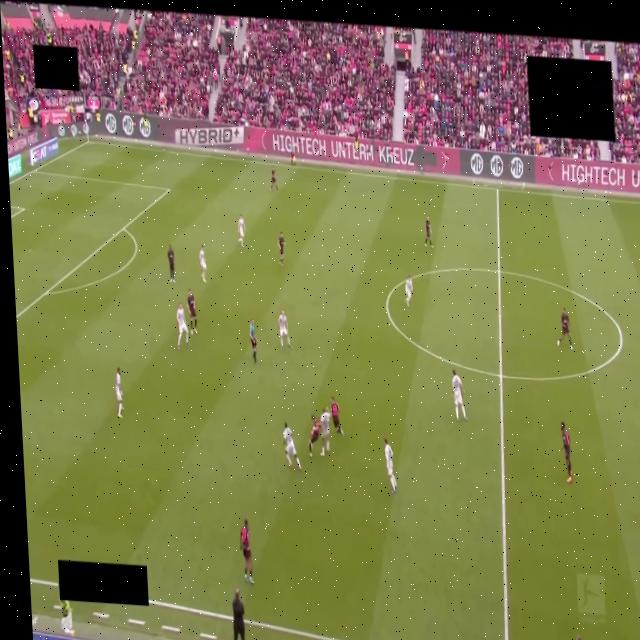player: (240, 519, 253, 584), (284, 423, 300, 470), (452, 370, 466, 421), (561, 422, 572, 483), (384, 439, 396, 494), (558, 309, 572, 349), (177, 304, 189, 348), (114, 367, 124, 418), (309, 415, 320, 458), (279, 311, 291, 349), (331, 397, 343, 435), (187, 290, 197, 333), (321, 409, 330, 456), (237, 214, 246, 247), (167, 246, 175, 283), (199, 245, 206, 282), (425, 217, 433, 248), (405, 276, 413, 306), (270, 167, 279, 193), (278, 233, 284, 265)
referee: (249, 320, 256, 363)
